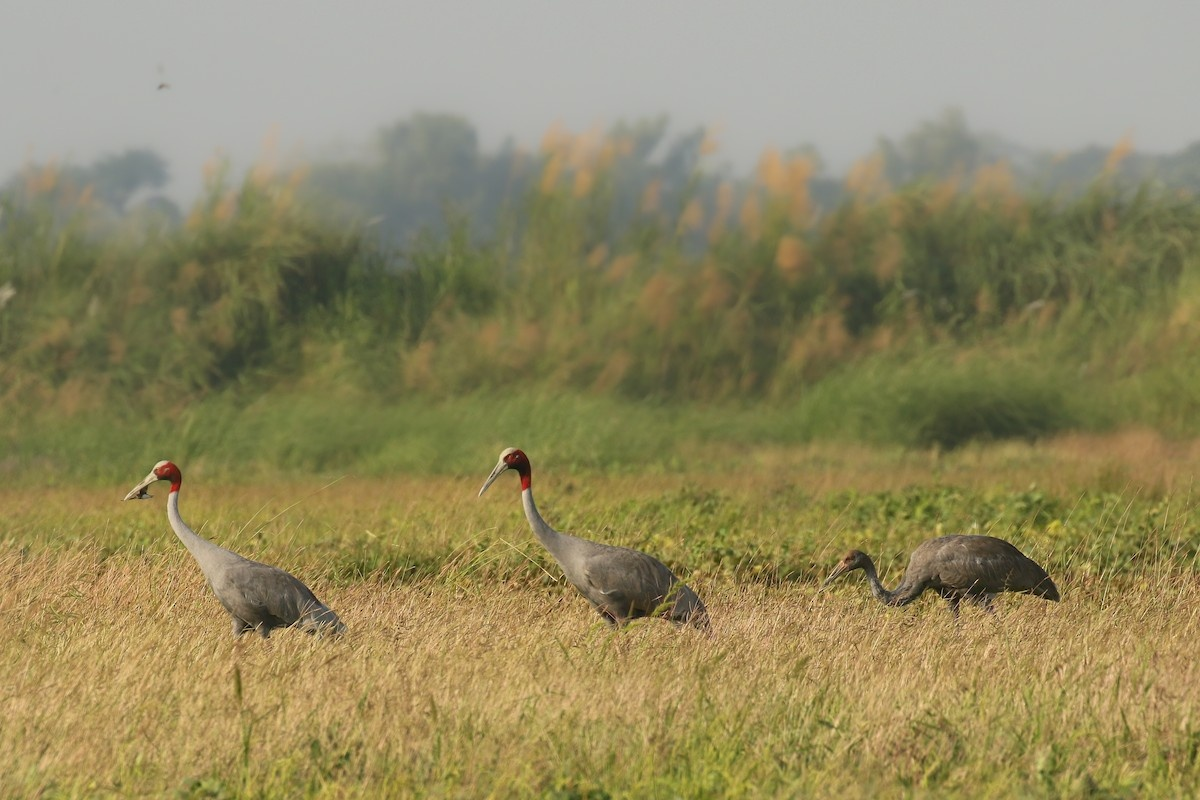crane: (475, 426, 709, 650), (115, 451, 351, 662), (814, 524, 1068, 621)
